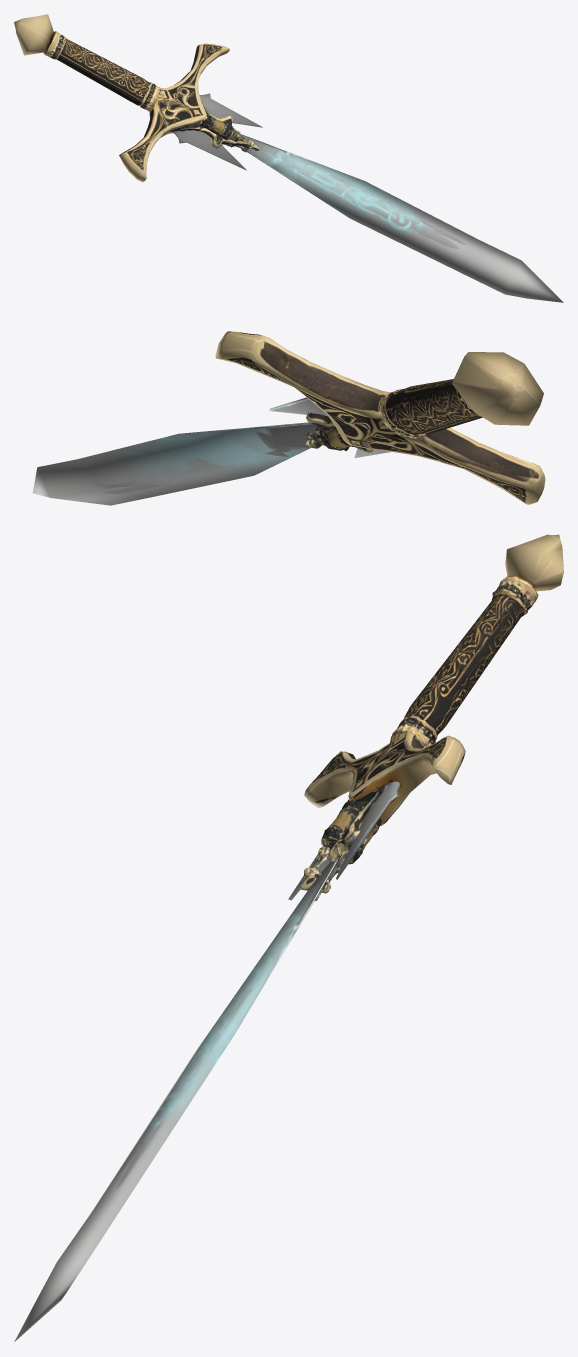
The model's file is selected.fbx.
3 renders of one model, top to bottom at view 1: azimuth 30°, elevation 25°; view 2: azimuth 150°, elevation 25°; view 3: azimuth 270°, elevation 25°, orthographic. The views are drawn at different scales.
Visible parts, largest first — view 1: tripo_node_4f3623e3-2977-40eb-bb8e-ab1507feadd4; view 2: tripo_node_4f3623e3-2977-40eb-bb8e-ab1507feadd4; view 3: tripo_node_4f3623e3-2977-40eb-bb8e-ab1507feadd4.
Part boxes in pixels (bbox=[...]): tripo_node_4f3623e3-2977-40eb-bb8e-ab1507feadd4: bbox=[14, 14, 563, 302]; tripo_node_4f3623e3-2977-40eb-bb8e-ab1507feadd4: bbox=[32, 331, 545, 505]; tripo_node_4f3623e3-2977-40eb-bb8e-ab1507feadd4: bbox=[14, 534, 563, 1341].
Size of the model in its own units: 0.998 by 0.6465 by 0.6777.
1 material, 1 textured.
